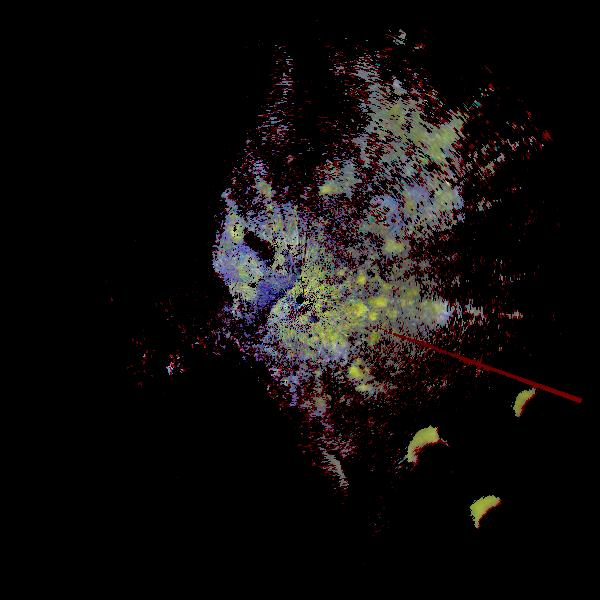roost: (490, 361, 600, 484), (391, 407, 505, 521), (455, 472, 563, 580)
